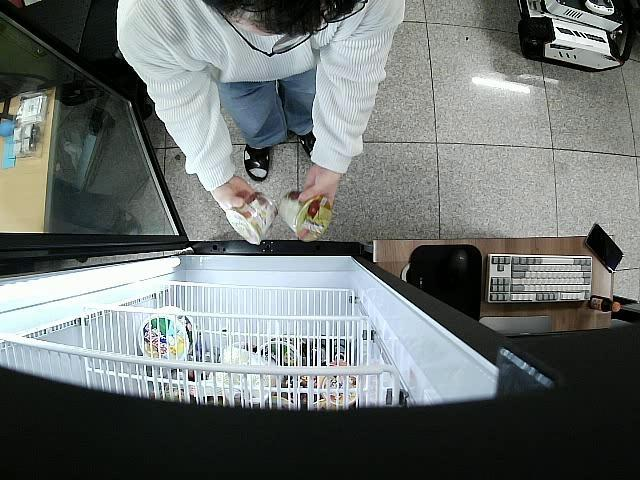04_chapagetti_S: (226, 189, 278, 247), (280, 190, 336, 243)
